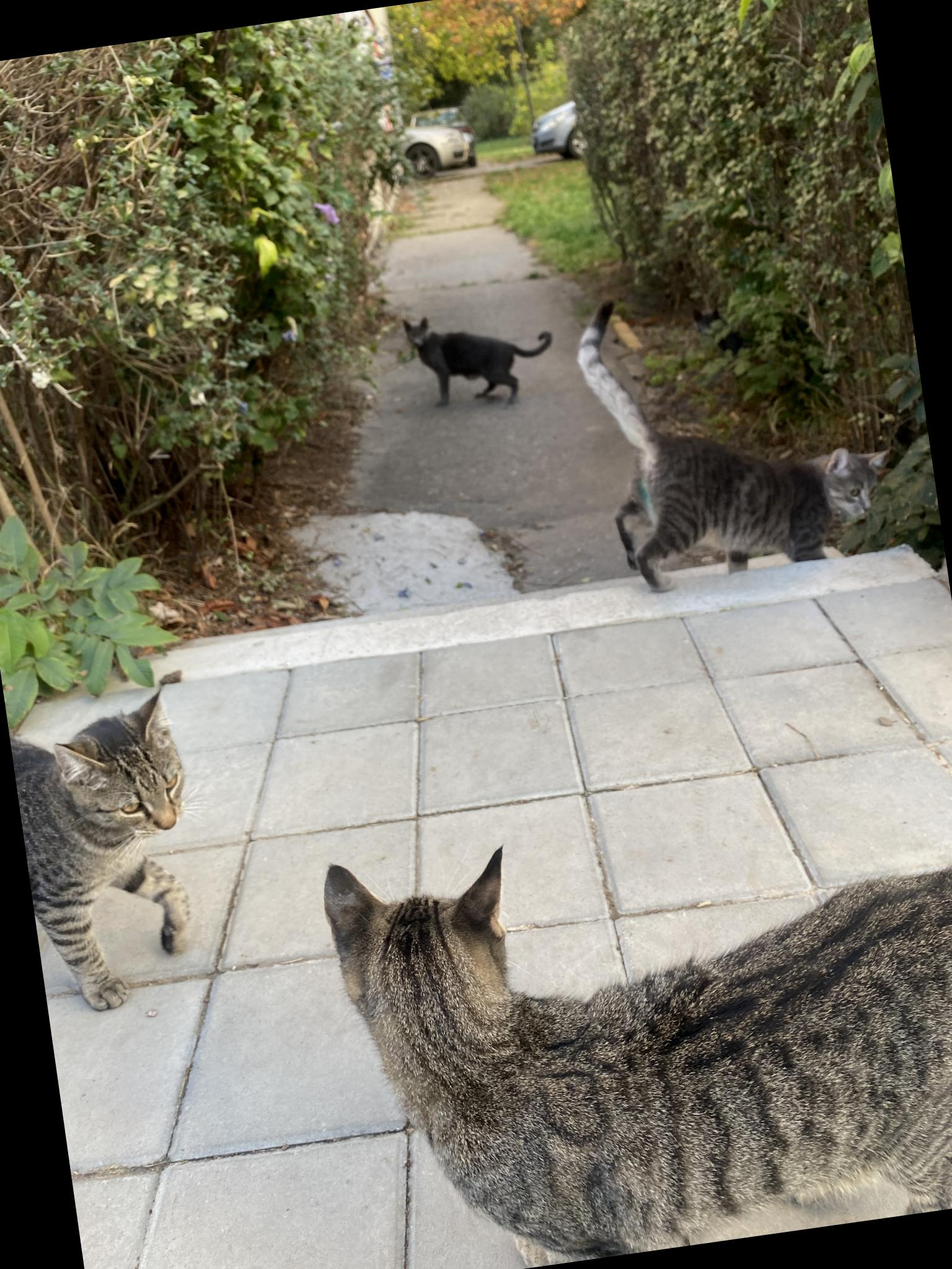macka: (316, 773, 952, 1269), (568, 263, 906, 599), (6, 686, 217, 1017), (402, 297, 561, 418)
